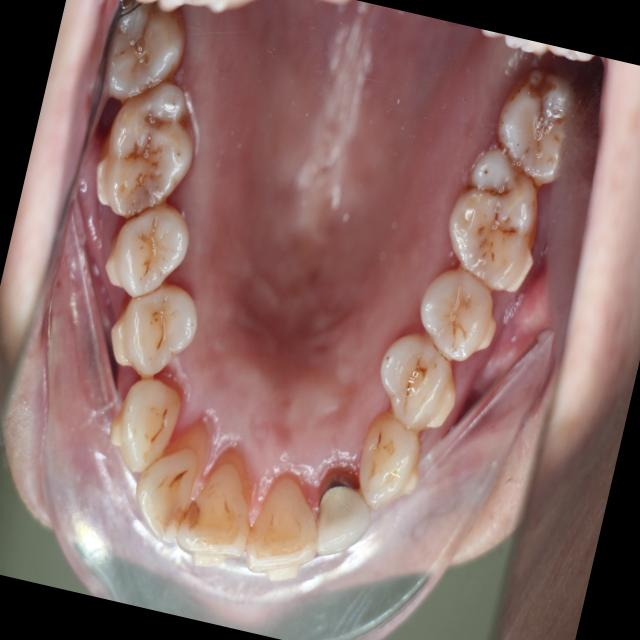tooth: (75, 57, 217, 242), (424, 129, 564, 309), (163, 421, 278, 580), (355, 308, 483, 447), (83, 177, 206, 318), (92, 259, 216, 397), (477, 52, 593, 196), (120, 406, 225, 564), (232, 449, 342, 597), (399, 259, 513, 380), (94, 0, 200, 126), (96, 359, 194, 492), (342, 399, 441, 526), (301, 461, 390, 573)
